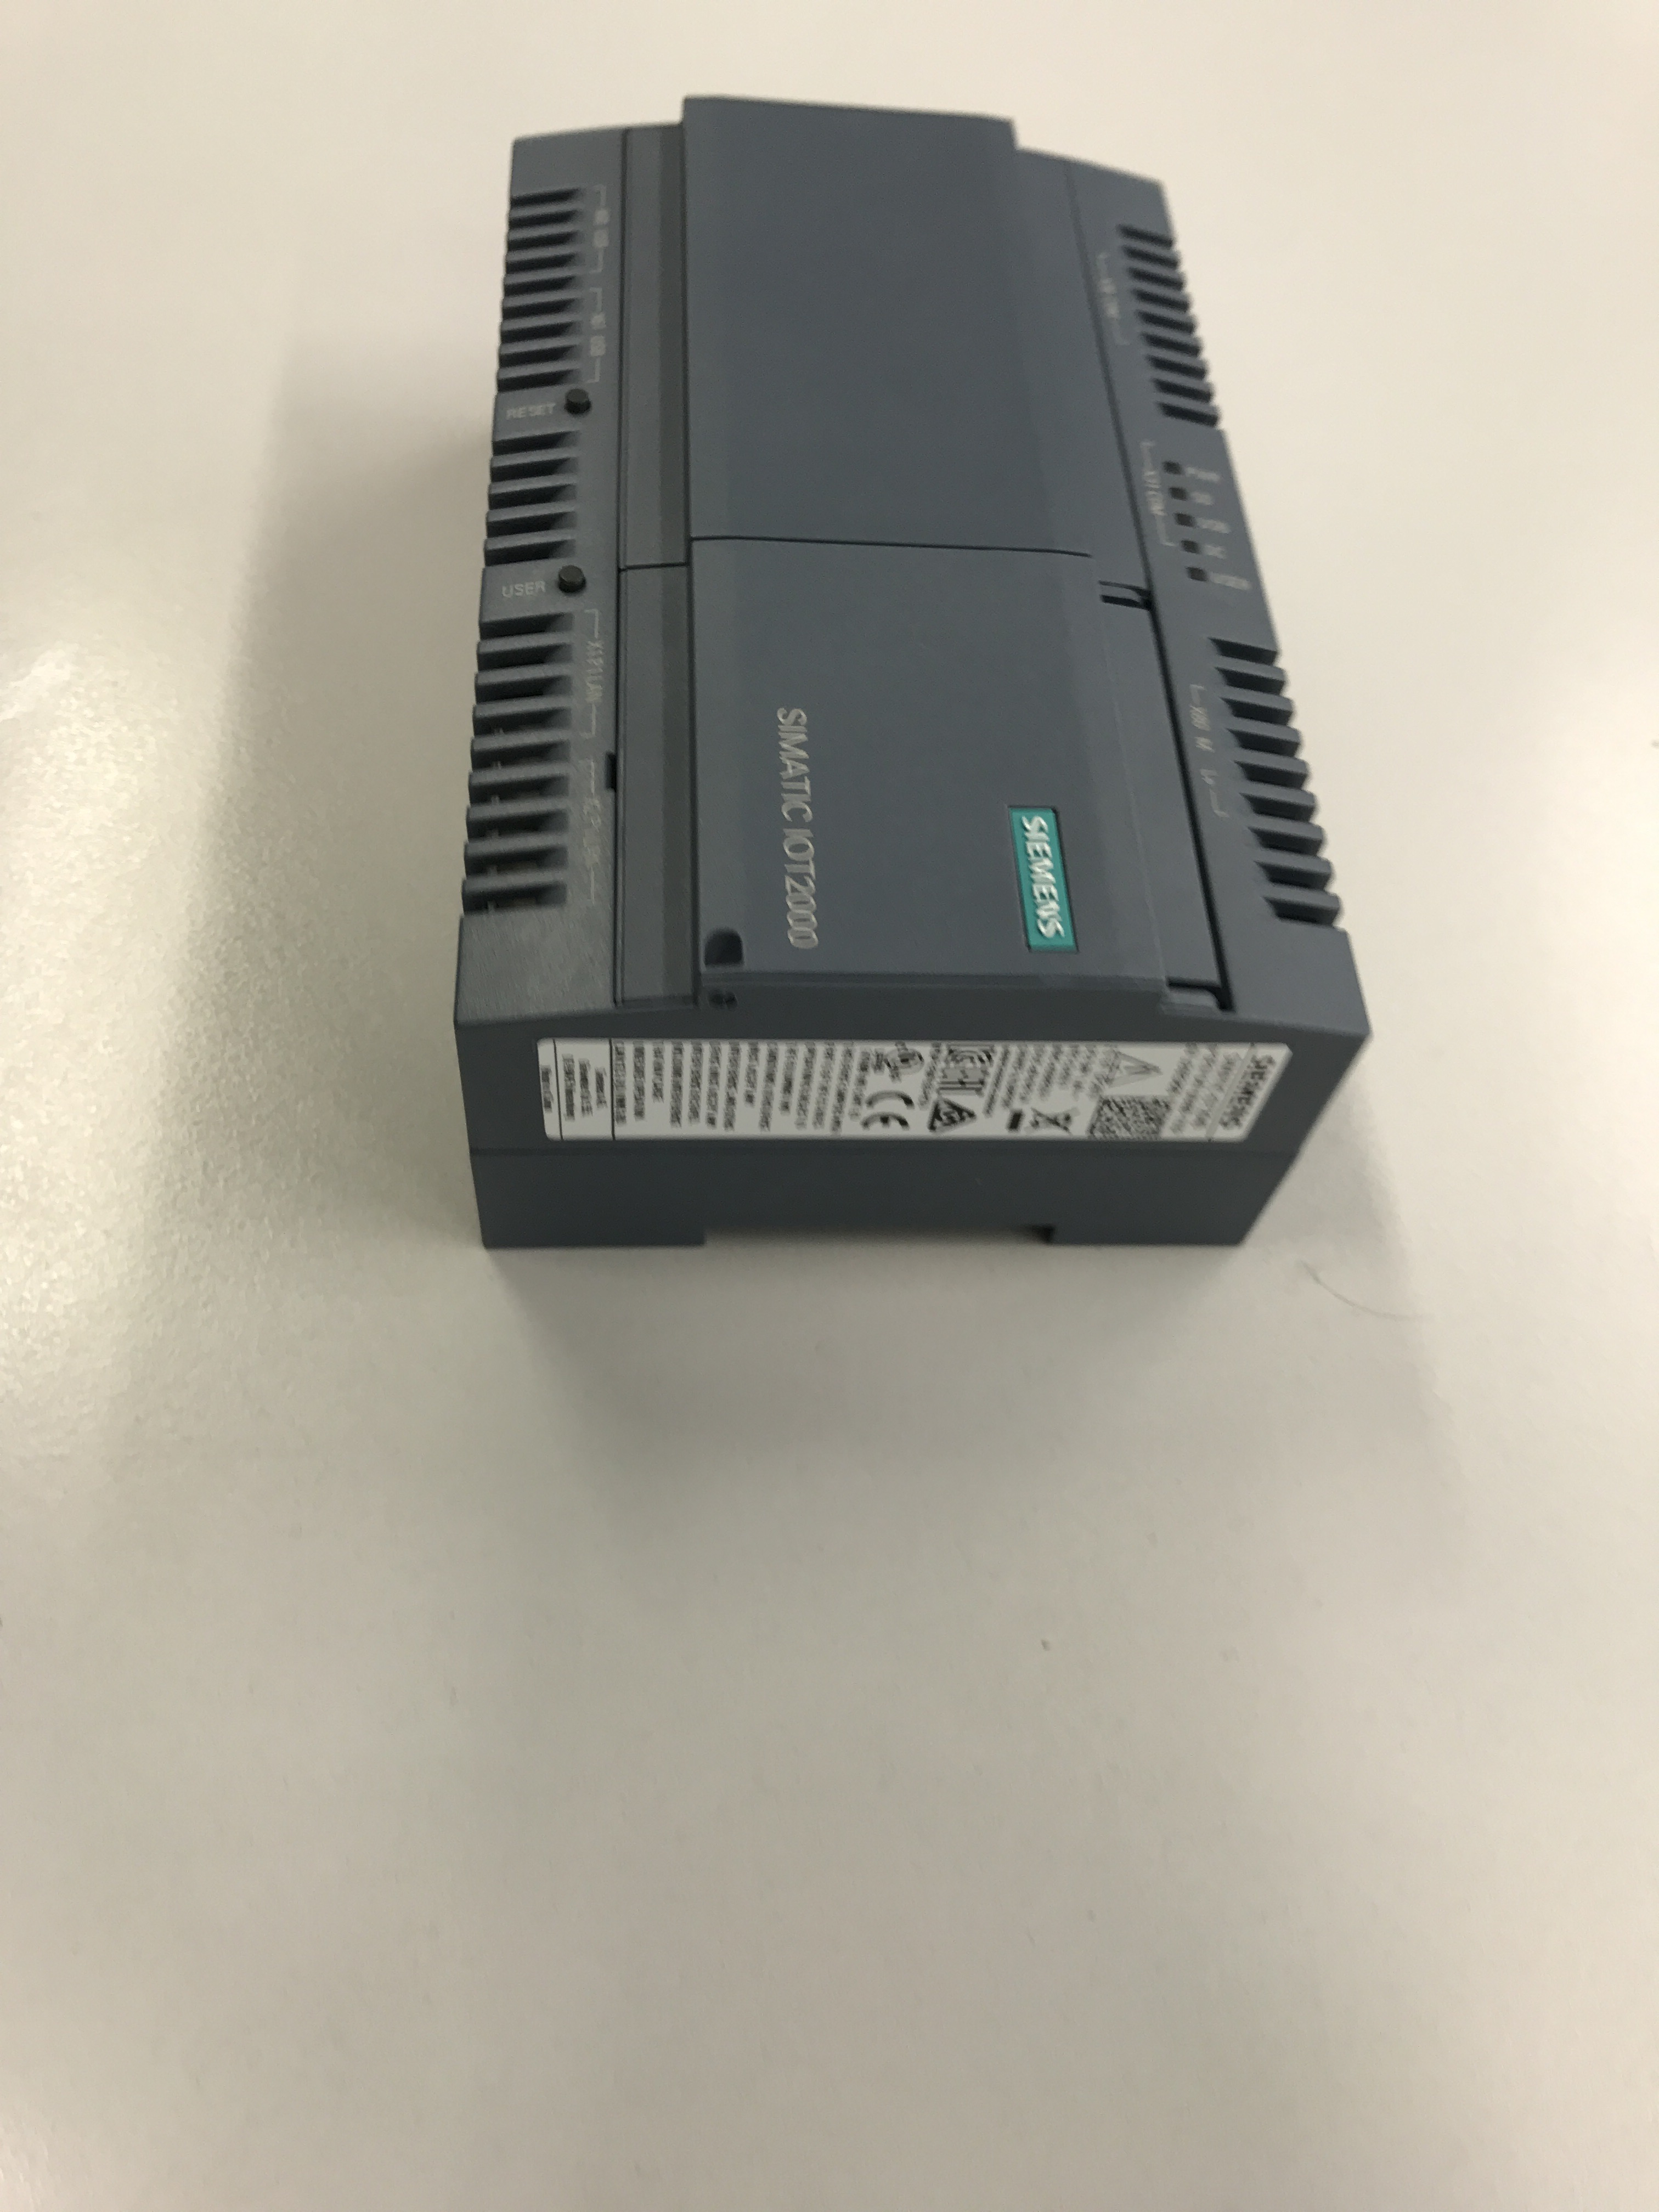device: (448, 94, 1371, 1258)
